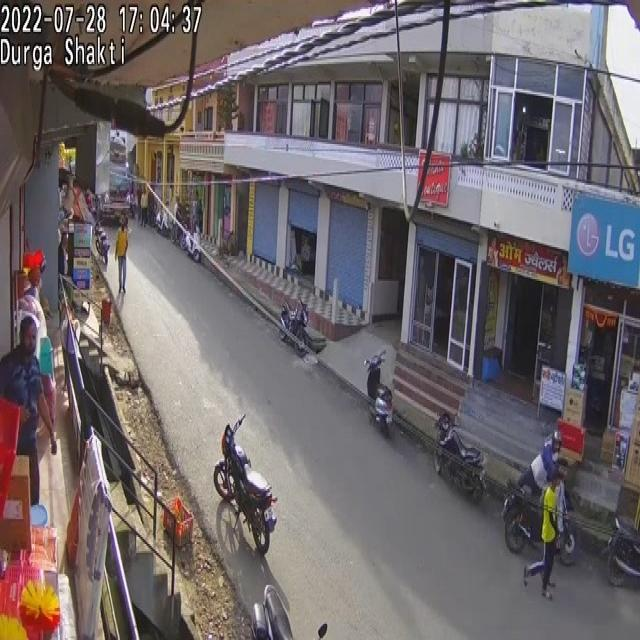non-fight: (0, 317, 56, 514), (522, 460, 567, 600), (516, 428, 566, 501), (18, 257, 47, 345), (116, 213, 130, 292), (140, 188, 149, 228), (189, 196, 198, 234)
